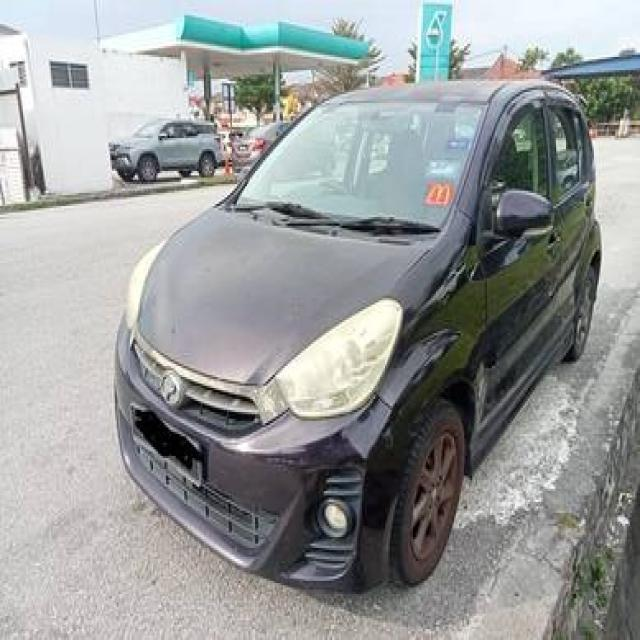PeroduaMyvi: (110, 74, 602, 594)
